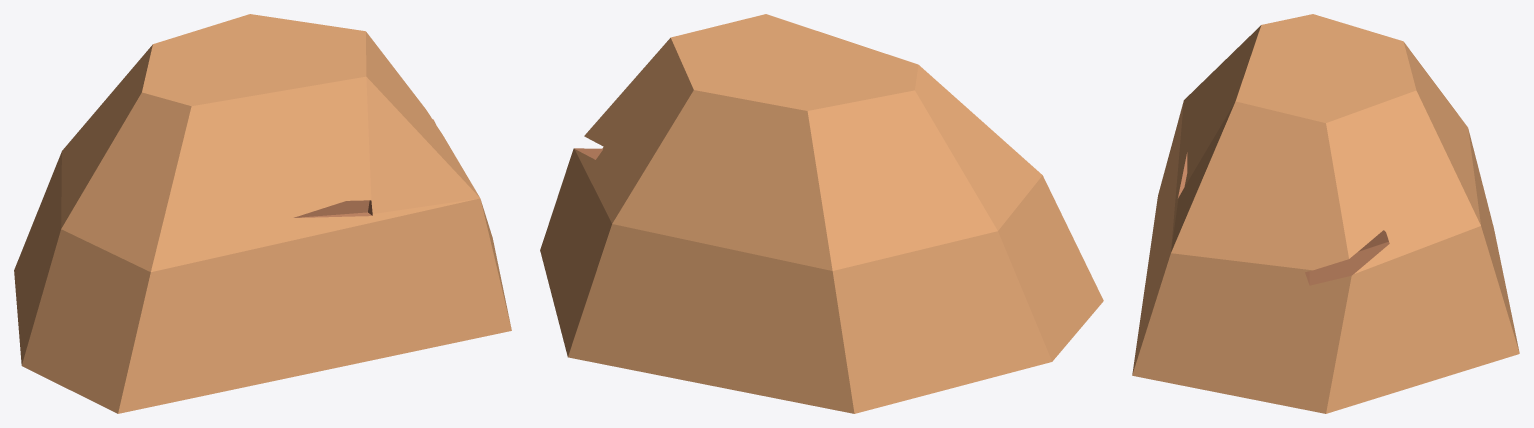
File: DesertStoneSmall.glb
3 renders of one model, left to right at view 1: azimuth 30°, elevation 25°; view 2: azimuth 150°, elevation 25°; view 3: azimuth 270°, elevation 25°, orthographic. The views are drawn at different scales.
Visible parts, largest first — view 1: DesertStoneSmall_Body, DesertStoneSmall_Crevices; view 2: DesertStoneSmall_Body; view 3: DesertStoneSmall_Body, DesertStoneSmall_Crevices.
Boxes of the visible parts, box(x1,y1,x2,y2) form: DesertStoneSmall_Body: box(14, 14, 511, 413); DesertStoneSmall_Crevices: box(294, 119, 434, 217); DesertStoneSmall_Body: box(540, 14, 1103, 413); DesertStoneSmall_Body: box(1132, 14, 1519, 413); DesertStoneSmall_Crevices: box(1178, 152, 1389, 285).
Bounding box in the file's own units: 2.55 × 1.19 × 1.82.
